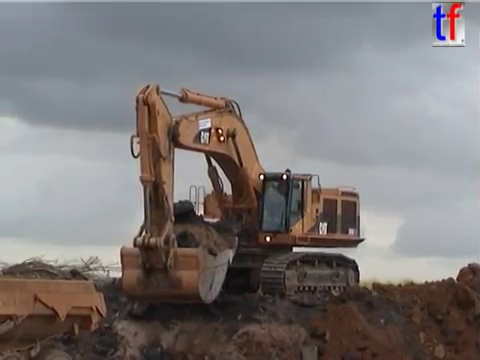excavator: (117, 80, 366, 310)
truck: (1, 271, 109, 359)
